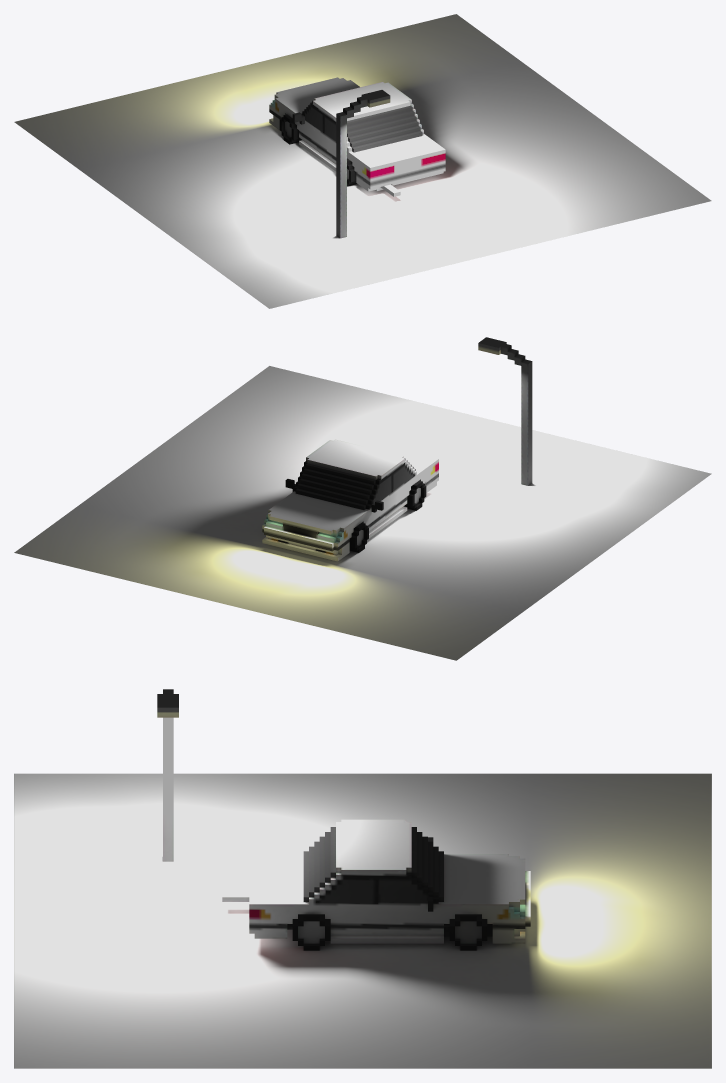
File: mark2-baked-opaque.glb
3 renders of one model, top to bottom at view 1: azimuth 30°, elevation 25°; view 2: azimuth 150°, elevation 25°; view 3: azimuth 270°, elevation 25°, orthographic. The views are drawn at different scales.
Visible parts, largest first — view 1: Plane, mark2; view 2: Plane, mark2; view 3: Plane, mark2.
Boxes of the visible parts, box(x1,y1,x2,y2) form: Plane: box(14, 14, 711, 308); mark2: box(269, 77, 445, 238); Plane: box(14, 366, 711, 660); mark2: box(262, 337, 532, 561); Plane: box(14, 773, 711, 1068); mark2: box(157, 689, 530, 950).
Size of the model in its own units: 12.9 by 3.7 by 12.9.
2 materials, 2 textured.
